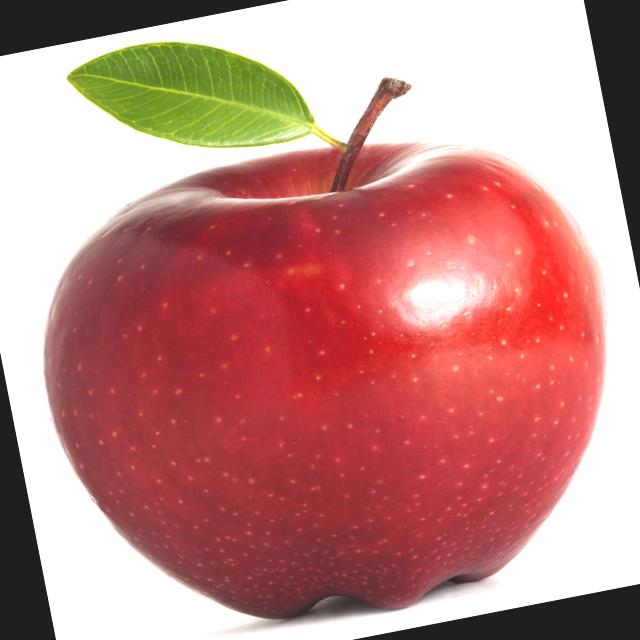apple: (20, 93, 640, 640)
